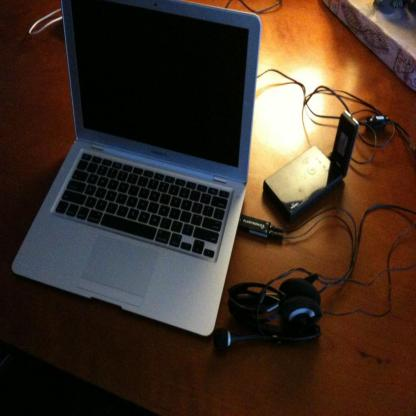board: (11, 0, 263, 346)
